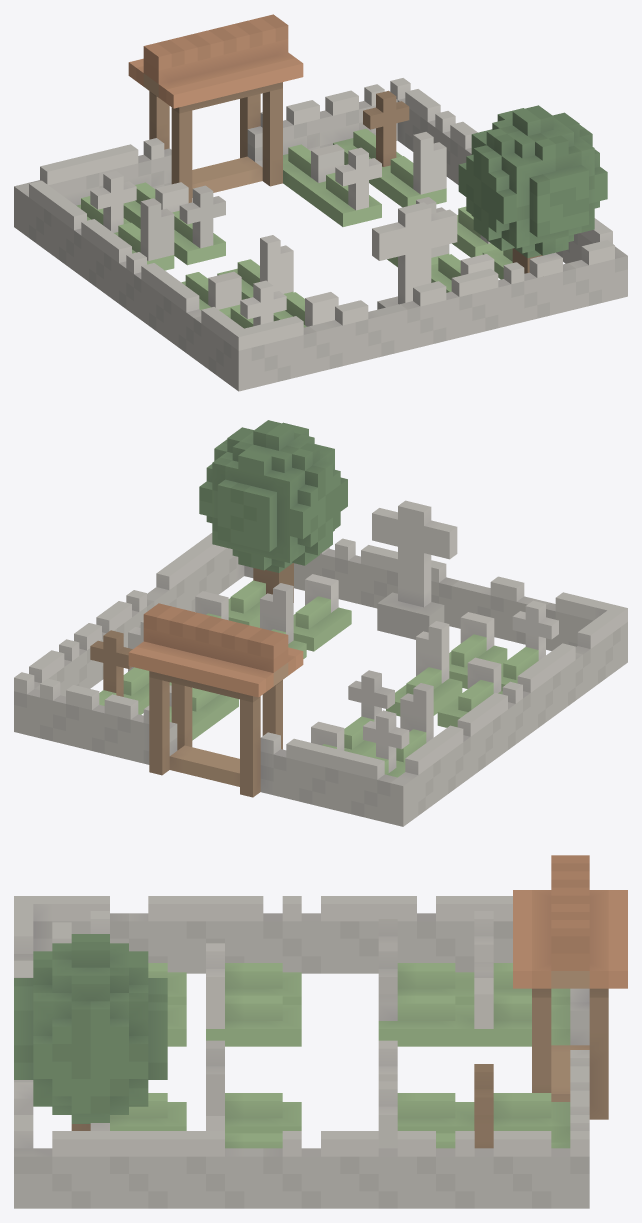
Rendered from cemetery.glb.
The picture shows the model from 3 angles, top to bottom: view 1: azimuth 30°, elevation 25°; view 2: azimuth 150°, elevation 25°; view 3: azimuth 270°, elevation 25°; orthographic projection. The views are drawn at different scales.
Parts seen in each view (by area): view 1: cemetery; view 2: cemetery; view 3: cemetery.
Part boxes in pixels (x1,y1,x2,y2): cemetery: (14, 14, 627, 391); cemetery: (14, 420, 627, 826); cemetery: (14, 855, 627, 1208).
Bounding box in the file's own units: 3.75 × 1.62 × 4.
